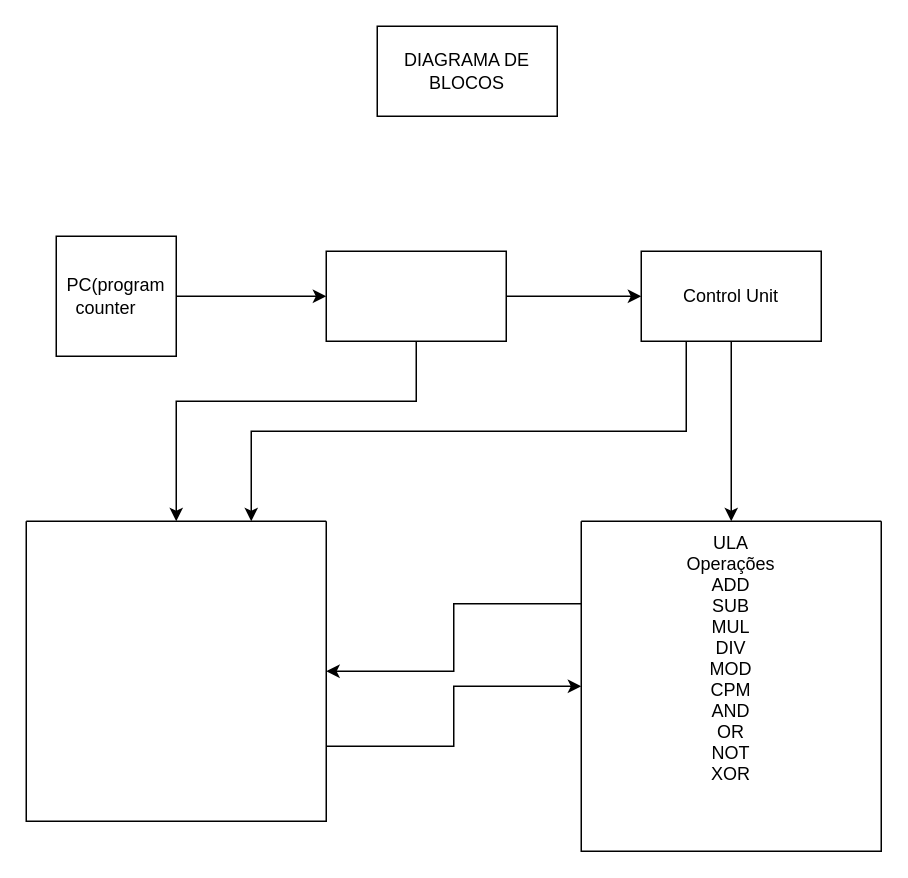
The diagram is 908 pixels wide and 878 high, and some of its shapes have lost their labels. The shapes that lost their labels are listed below. From the top down, each one's centre as x and y in pixels, then its label:
At (x=415, y=295): "instruction memory".
At (x=175, y=670): "Register file R0 R1 R2 R3 00 01 02 03 R4 R5 R6 R7 04 05 06 07".
